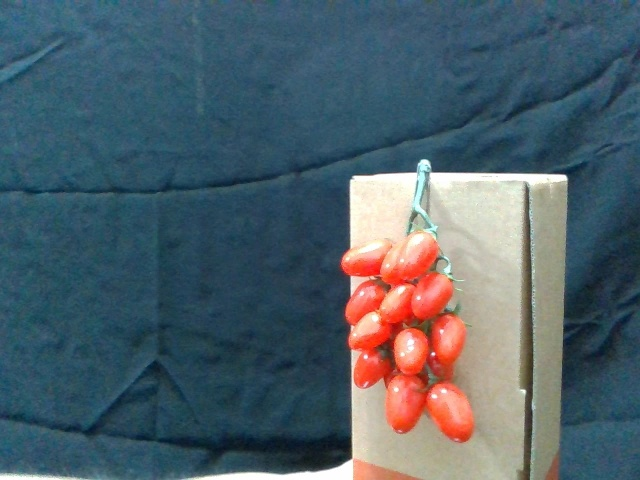tomato: (427, 378, 477, 444), (384, 375, 426, 433), (398, 231, 445, 278), (430, 312, 470, 366), (413, 274, 455, 323), (342, 239, 392, 278), (342, 282, 387, 323), (353, 347, 393, 392), (346, 311, 391, 349), (395, 327, 430, 375), (382, 284, 420, 326)
